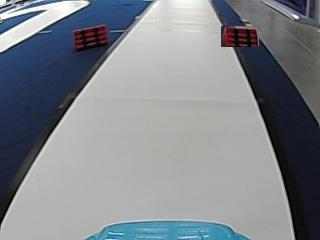bomb: (72, 23, 108, 49)
